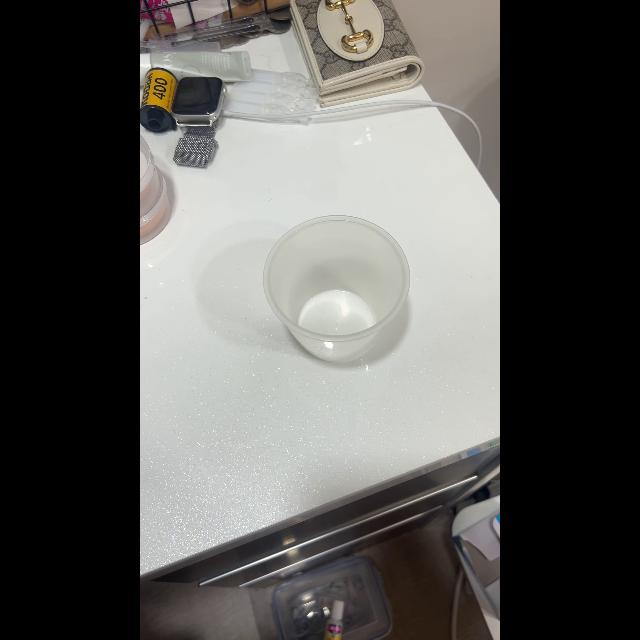clean: (262, 214, 412, 362)
